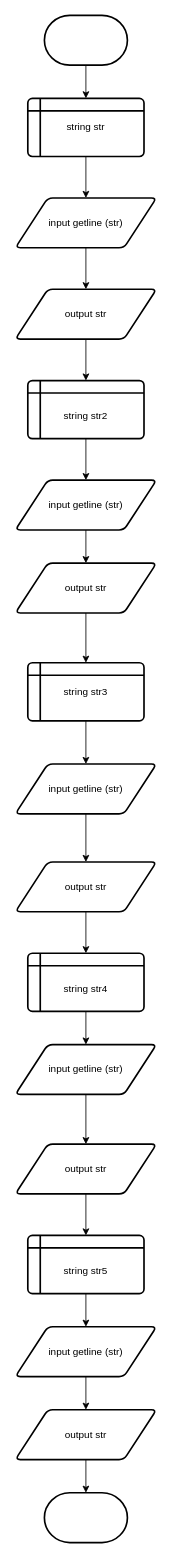
Some shapes in this 171 by 1557 pixel diagram are drawn without their labels. The centre of each missing label's shape, as x and y in pixels:
end: (x=85, y=1517)
main: (x=85, y=40)
